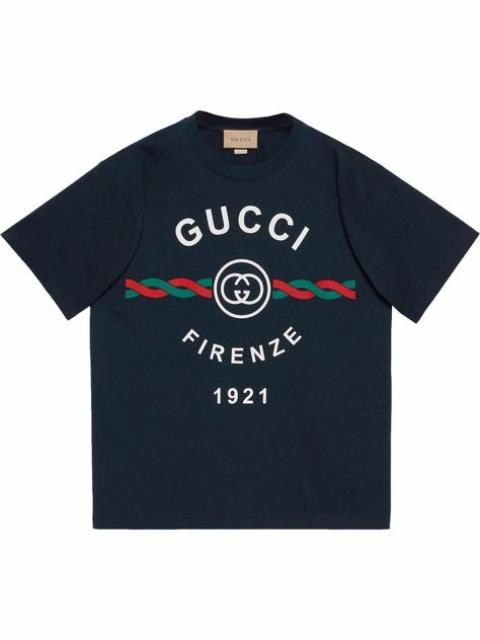Gucci: (172, 194, 324, 252), (226, 130, 258, 148)
